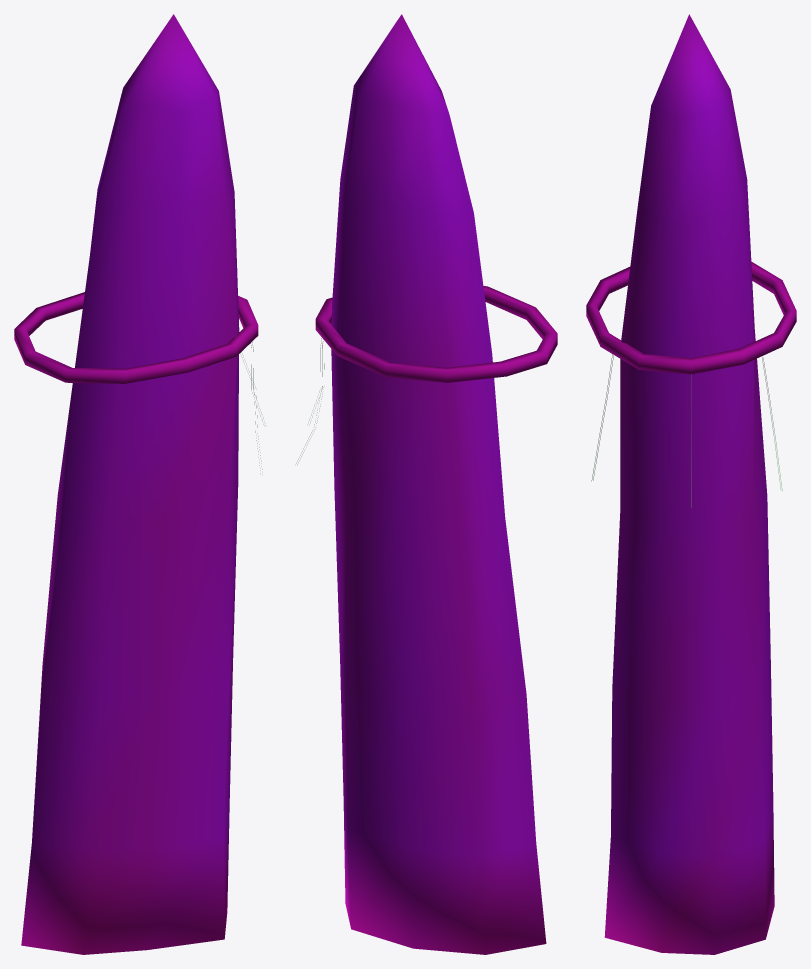
The model's file is stone_tall.glb.
The picture shows the model from 3 angles, left to right: view 1: azimuth 30°, elevation 25°; view 2: azimuth 150°, elevation 25°; view 3: azimuth 270°, elevation 25°; orthographic projection. The views are drawn at different scales.
Visible parts, largest first — view 1: Stone-convcol, Rope; view 2: Stone-convcol, Rope; view 3: Stone-convcol, Rope, Strips.
Part boxes in pixels (x1,y1,x2,y2): Stone-convcol: (21, 14, 239, 954); Rope: (14, 292, 258, 383); Stone-convcol: (331, 14, 546, 954); Rope: (315, 286, 557, 382); Stone-convcol: (604, 14, 774, 954); Rope: (586, 261, 796, 374); Strips: (591, 354, 782, 507).
Bounding box in the file's own units: 1.15 × 4.05 × 0.8396.
